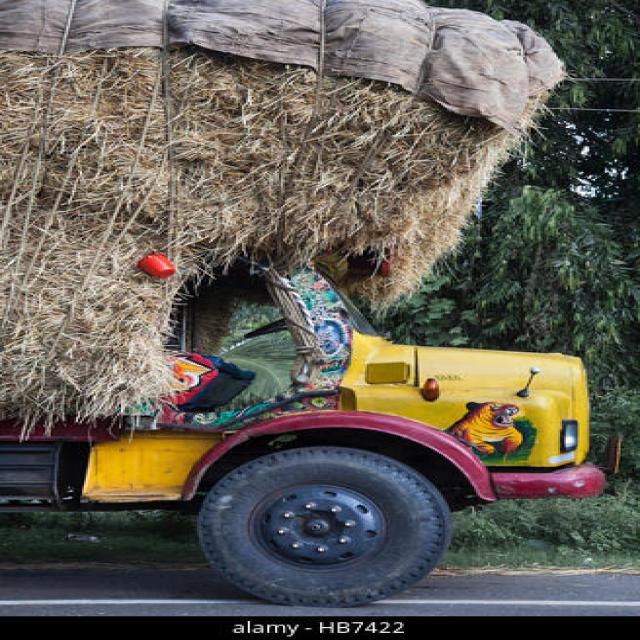normal_truck: (4, 262, 605, 602)
overloaded_truck: (2, 0, 564, 427)
